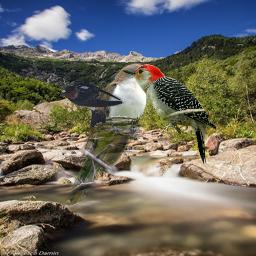Cuckoo: (63, 61, 154, 208)
Swallow: (60, 80, 124, 127)
Woodpecker: (122, 64, 216, 164)
